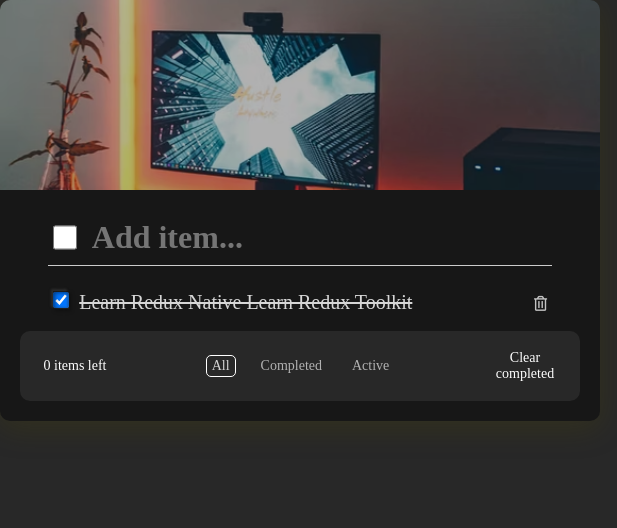
Test case: ToDoListContainer › should add 2 todo items to list
Type "Write tests" into the field with test id "input". click: (312, 238)
box: top-left (77, 220), bottom-right (547, 255)
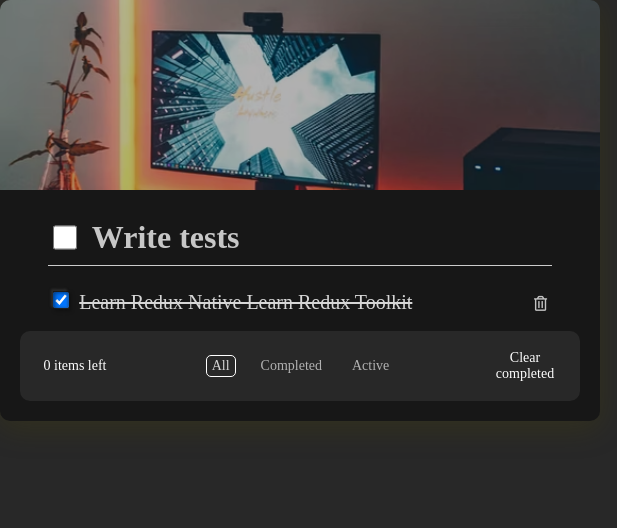
Submit the form from the button with test id "submit", box top-left (0, 190), bottom-right (600, 421)
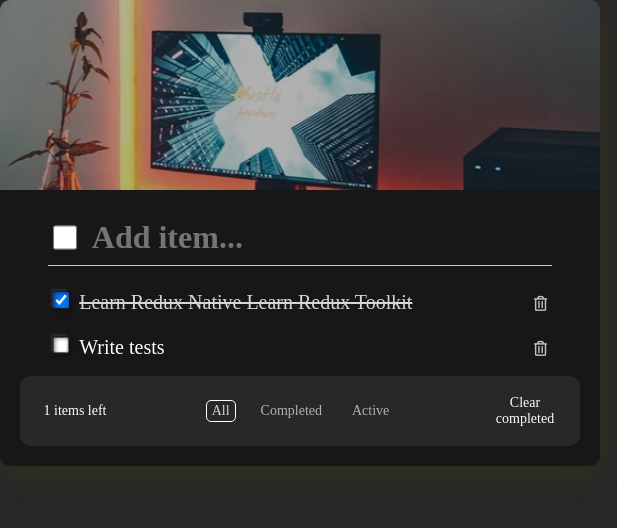
Type "Fix bugs" into the field with test id "input". click: (312, 238)
box: top-left (77, 220), bottom-right (547, 255)
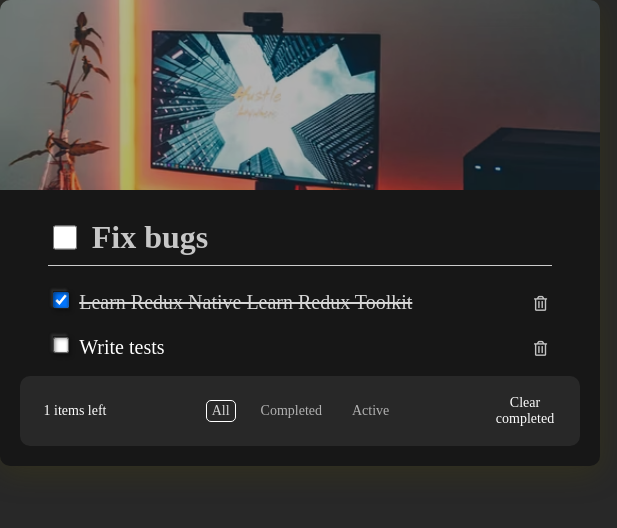
Submit the form from the button with test id "submit", box top-left (0, 190), bottom-right (600, 466)
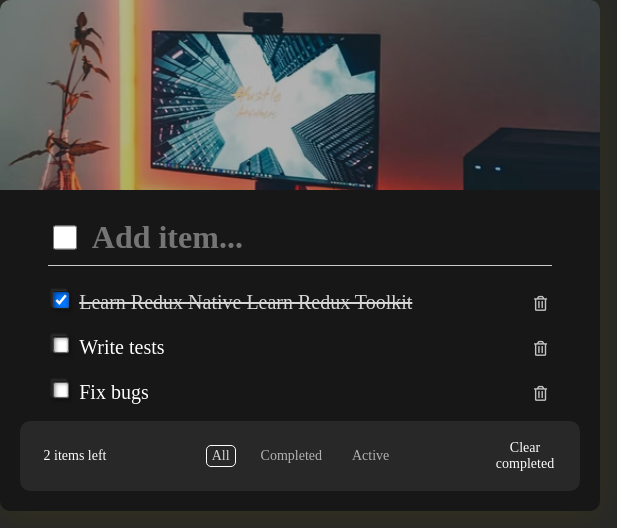
Expected: the number of labels with test id "list-item-text" is 3, top-left (79, 291), bottom-right (412, 313); top-left (79, 336), bottom-right (164, 358); top-left (79, 381), bottom-right (149, 403)
Expected: the text with test id "footer-counter" reads "2 items left", top-left (44, 448), bottom-right (106, 463)
